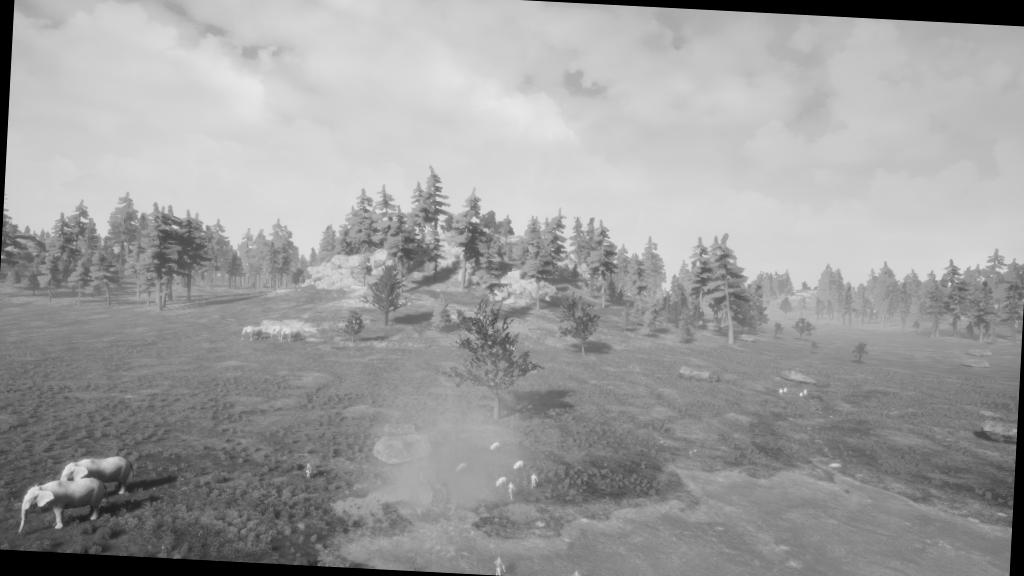Fire: (412, 463, 466, 518)
elephant: (17, 475, 107, 530), (56, 448, 142, 499)
human: (489, 552, 510, 575), (505, 480, 517, 498), (304, 459, 314, 480), (530, 472, 540, 492), (565, 567, 586, 575)
pig: (452, 460, 470, 474), (488, 440, 502, 453), (513, 459, 526, 472), (494, 474, 506, 488)
smoke: (416, 403, 548, 507)
